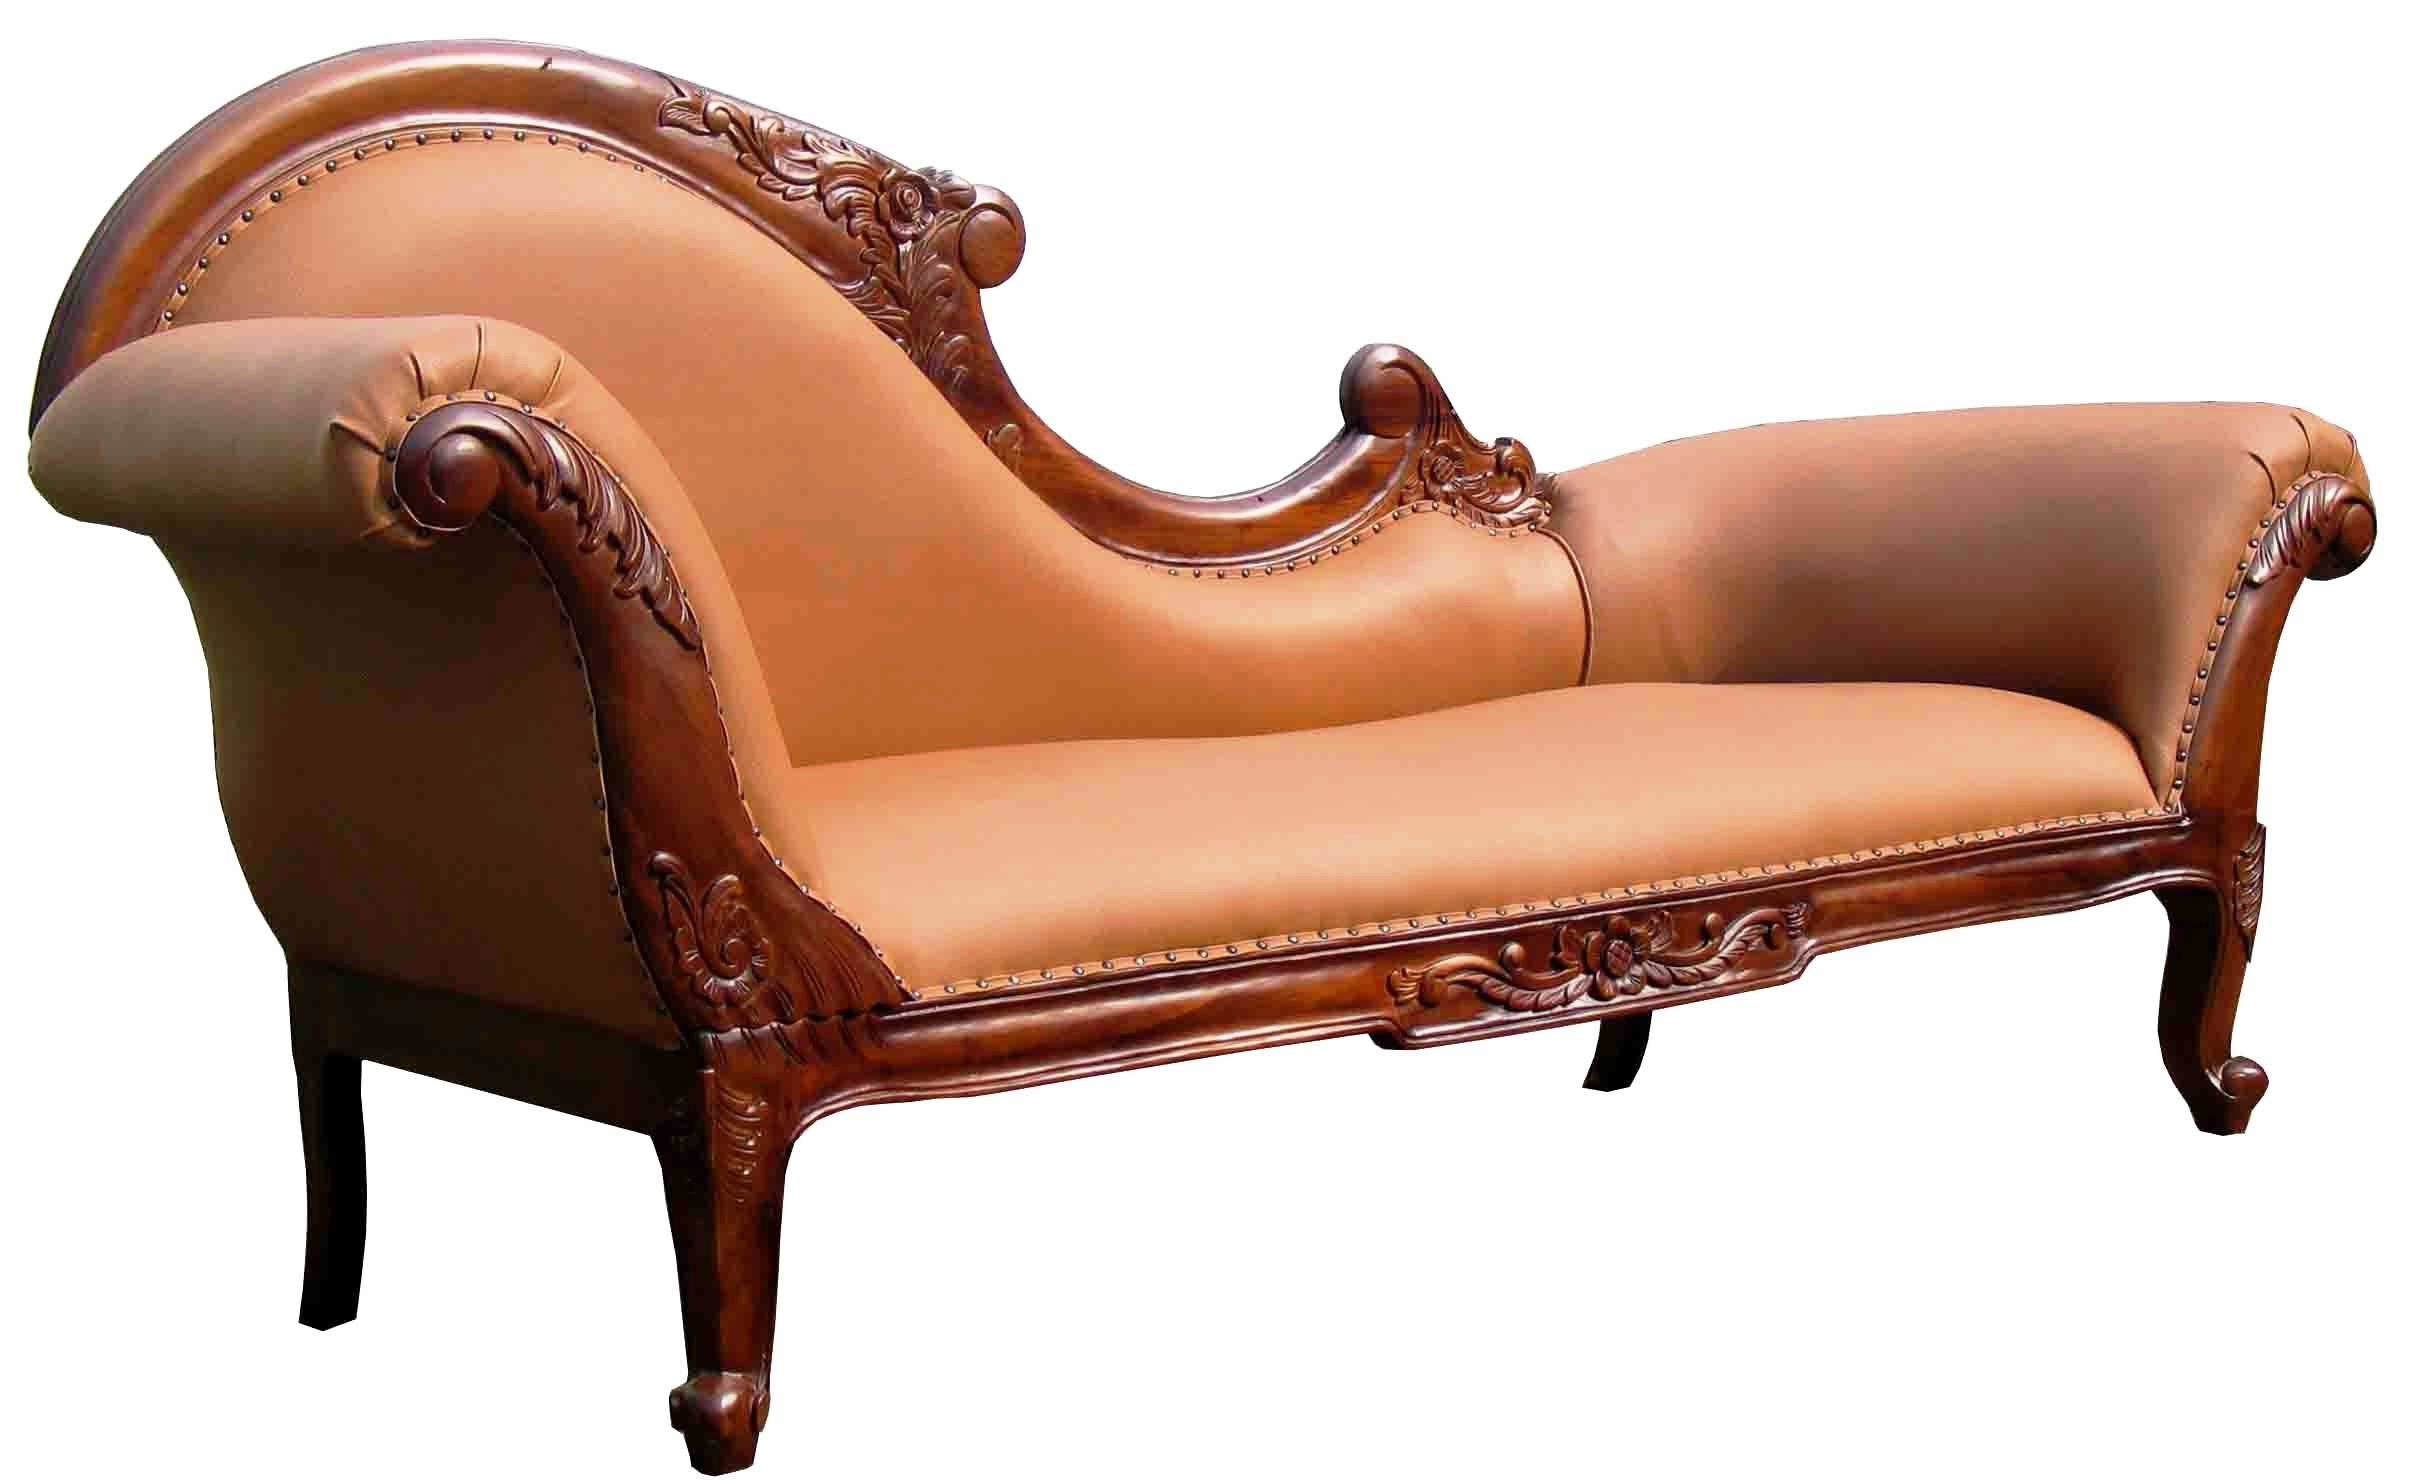Carving Chair: (55, 40, 2352, 1420)
